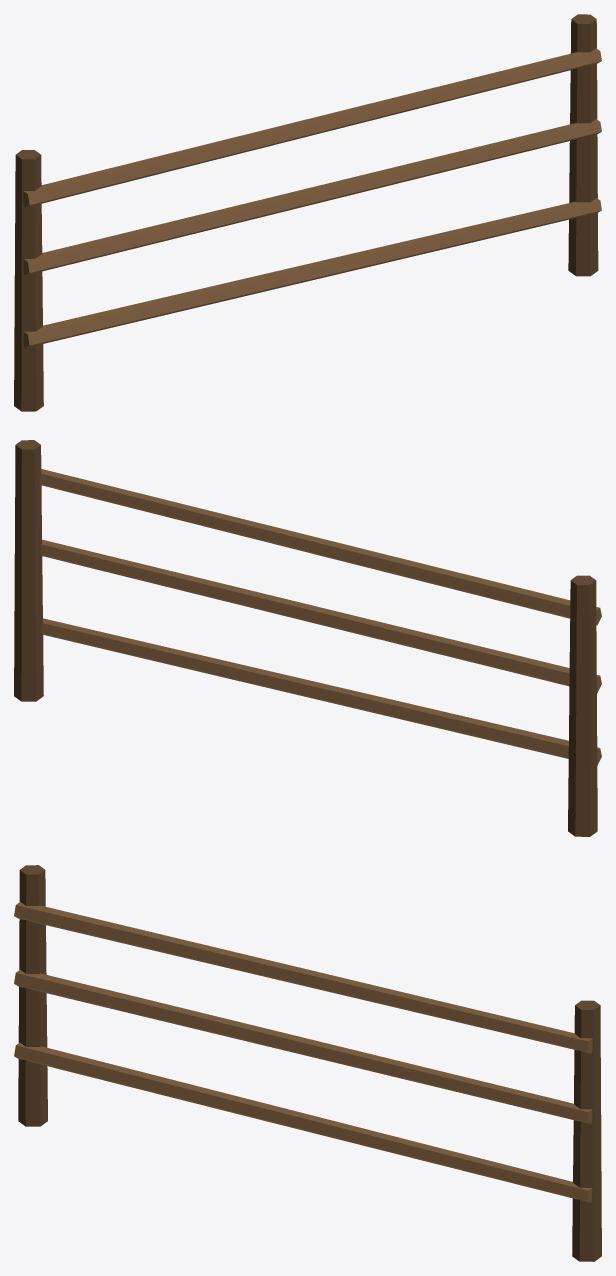
Rendered from Farm_Fence.obj.
The picture shows the model from 3 angles, top to bottom: view 1: azimuth 30°, elevation 25°; view 2: azimuth 150°, elevation 25°; view 3: azimuth 330°, elevation 25°; orthographic projection.
Visible parts, largest first — view 1: Farm_Fence; view 2: Farm_Fence; view 3: Farm_Fence.
Boxes of the visible parts, bbox=[...] form: Farm_Fence: bbox=[14, 14, 601, 411]; Farm_Fence: bbox=[14, 440, 601, 836]; Farm_Fence: bbox=[14, 865, 601, 1261].
Size of the model in its own units: 3.12 by 1.3 by 0.1628.
